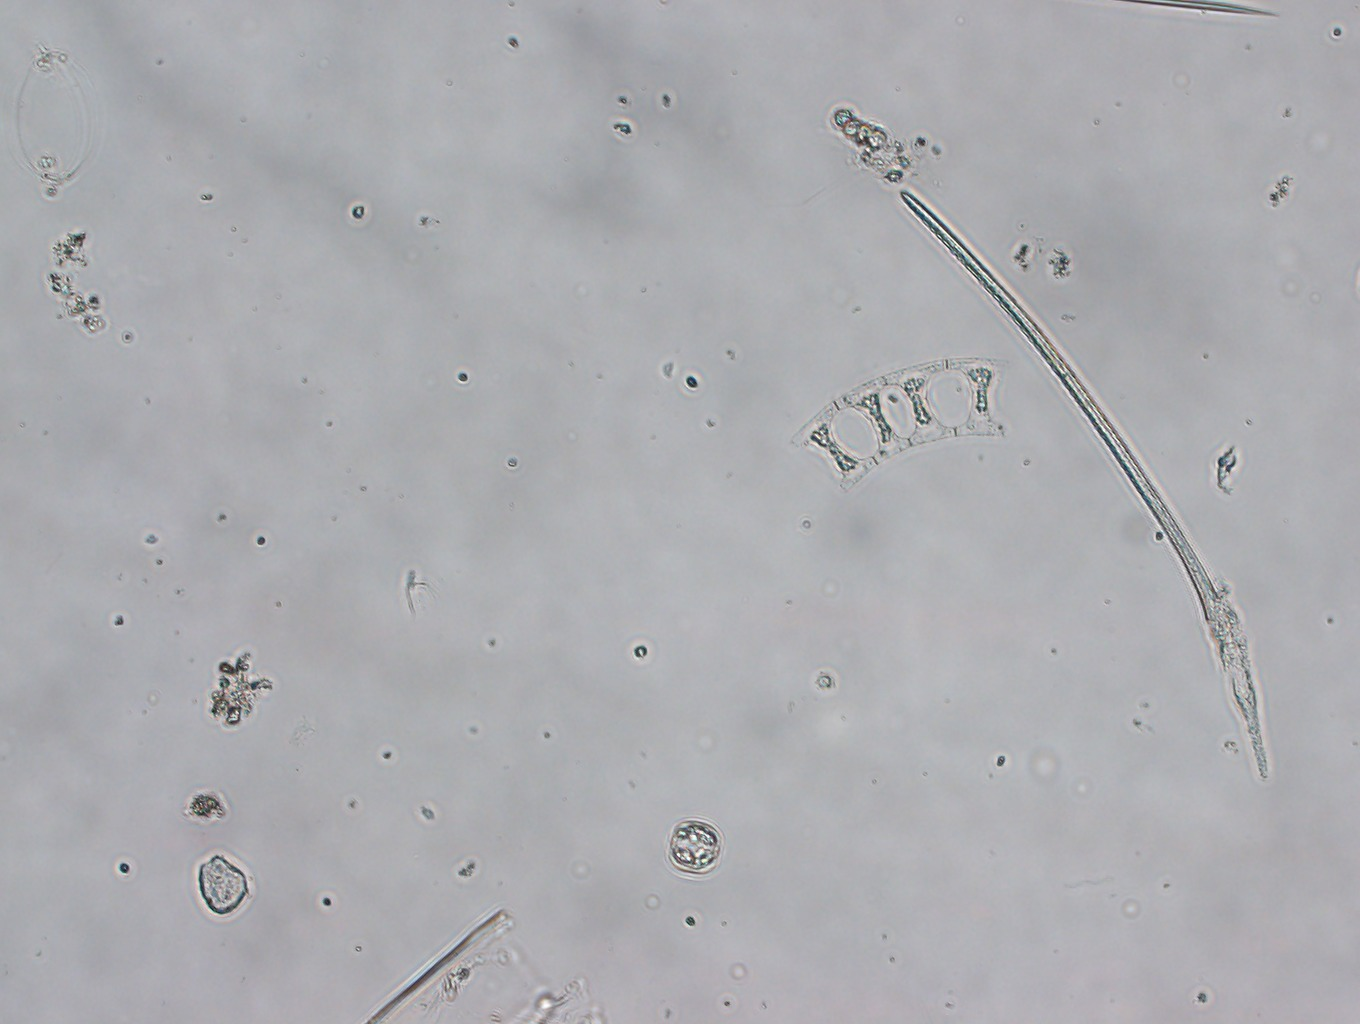ceratium fusus: (893, 186, 1277, 782)
eucampia: (778, 335, 1015, 490)
